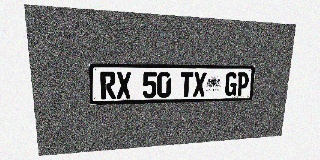0: (157, 72, 171, 98)
5: (143, 72, 157, 98)
G: (224, 72, 238, 96)
P: (236, 72, 249, 96)
R: (100, 72, 116, 99)
T: (180, 72, 194, 97)
X: (116, 72, 131, 99), (193, 72, 206, 97)
